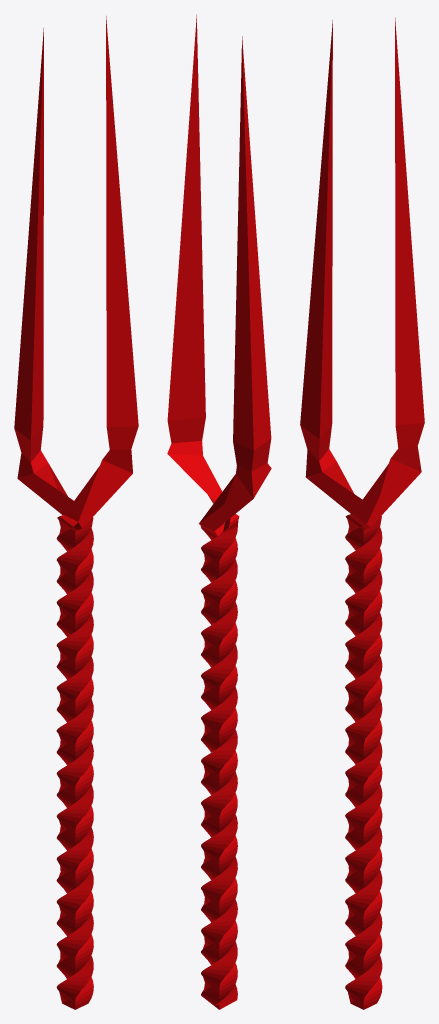
Rendered from spearoflonginus.fbx.
3 views of the same model, side by side, from view 1: azimuth 90°, elevation 25°; view 2: azimuth 210°, elevation 25°; view 3: azimuth 270°, elevation 25° (orthographic).
Parts seen in each view (by area): view 1: base; view 2: base; view 3: base.
Part boxes in pixels (x1,y1,x2,y2): base: (14, 16, 138, 1009); base: (167, 14, 271, 1009); base: (300, 17, 424, 1009).
Bounding box in the file's own units: 27.89 × 415 × 47.19.
